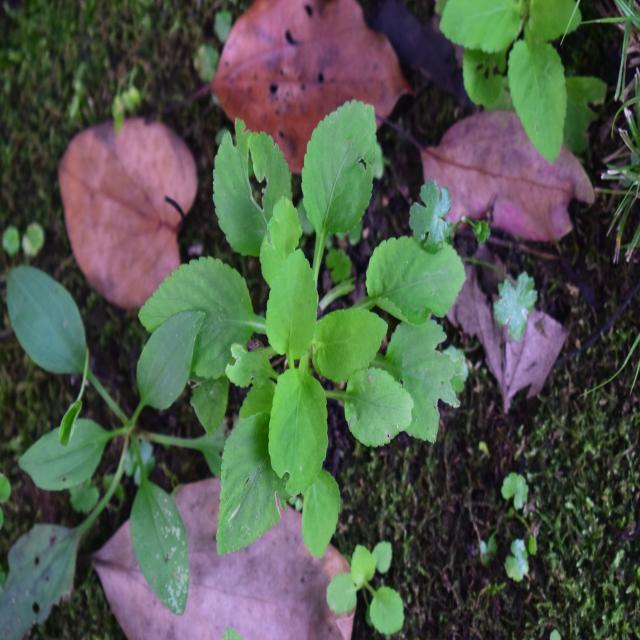Viola: (184, 134, 461, 522)
